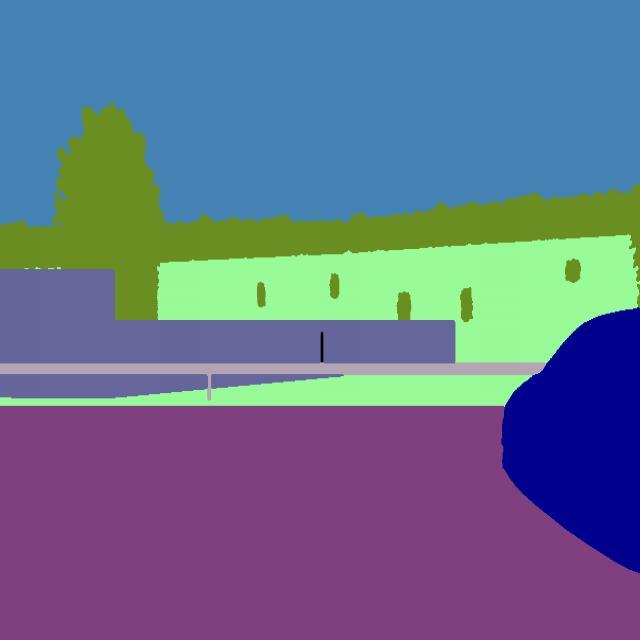unsafe: (499, 305, 640, 588)
